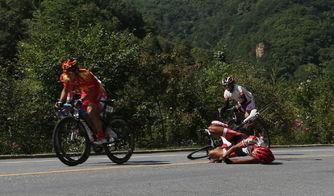Fall-Detected: (188, 112, 278, 166)
